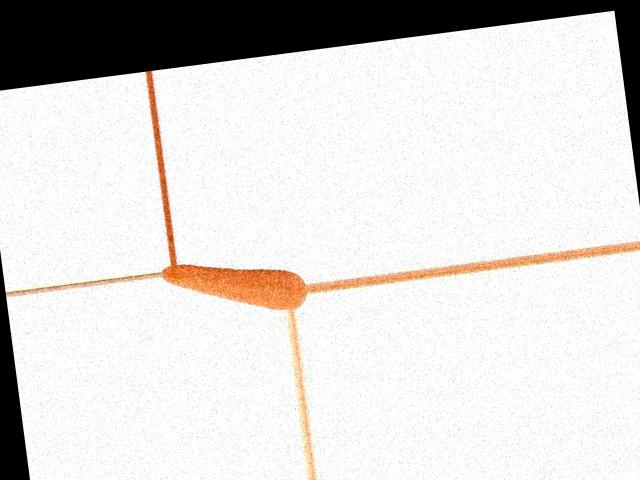carrot: (161, 248, 307, 325)
